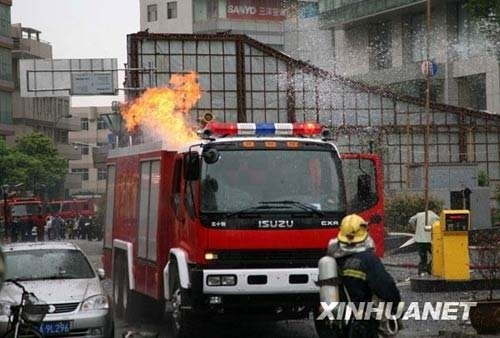fire: (120, 69, 206, 147)
